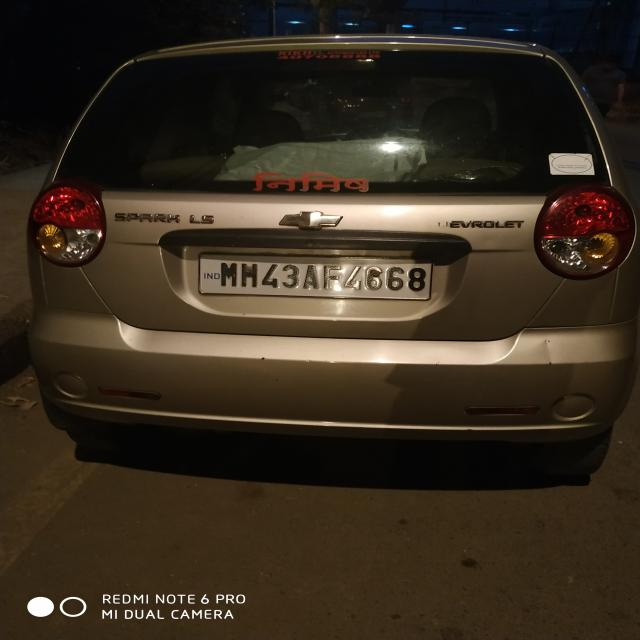Number-Plate: (196, 255, 434, 298)
